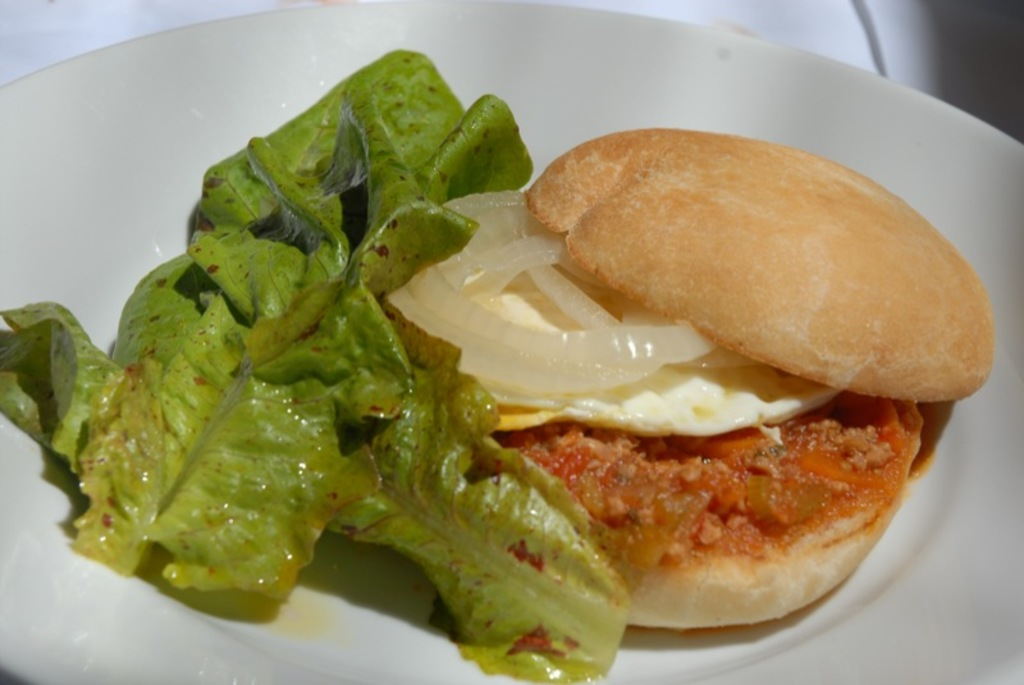Hamburger: (386, 126, 992, 629)
